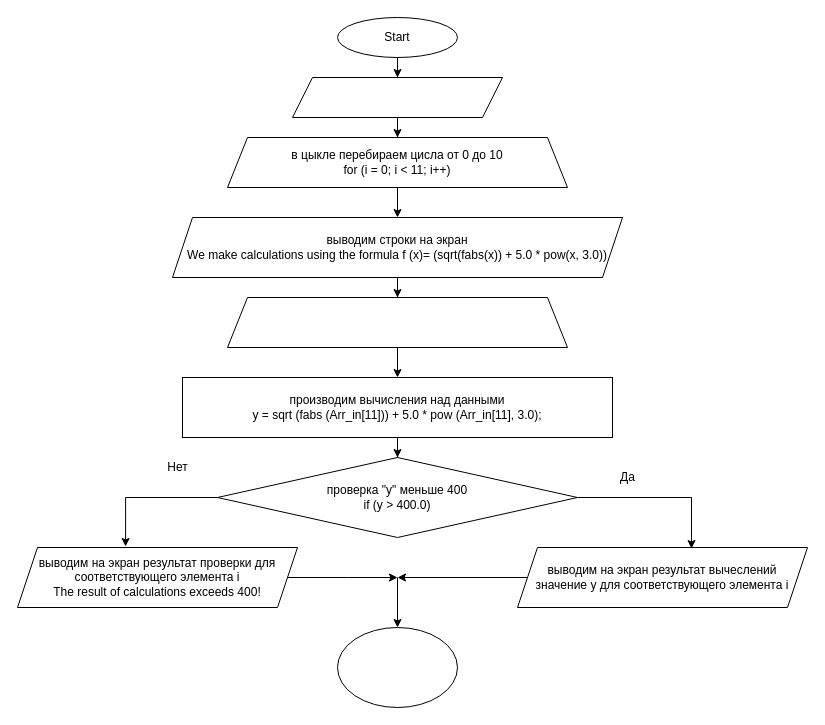
The diagram is 825 pixels wide and 725 high, and some of its shapes have lost their labels. Each missing label, with the centre of its shape:
End: pixel 397 667
в цыкле перебираем цисла от 10 до 0 for (i = 10; i >= 0; i--): pixel 397 322
выводим строки на экран Enter 11 numbers: pixel 397 97
